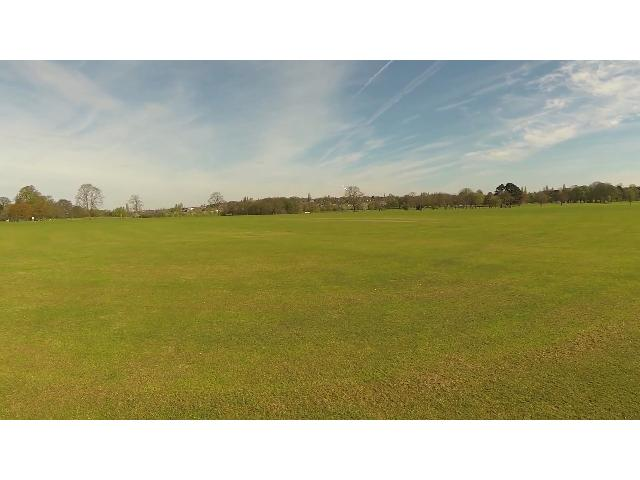Anti-Drone: (340, 182, 352, 194)
